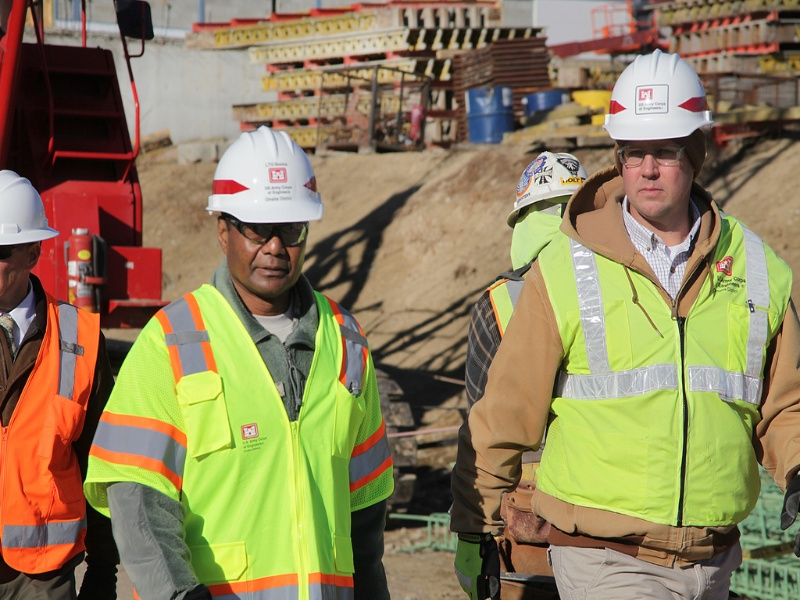Baret: (207, 126, 323, 224), (607, 47, 709, 140)
